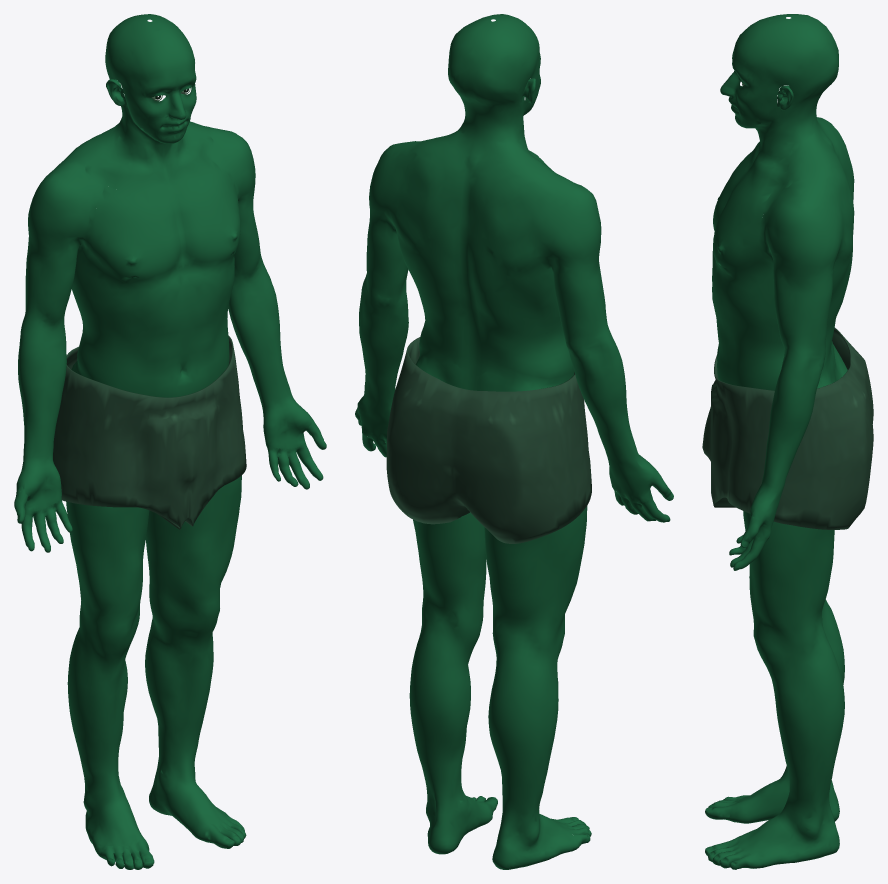
The picture shows the model from 3 angles, left to right: view 1: azimuth 30°, elevation 25°; view 2: azimuth 150°, elevation 25°; view 3: azimuth 270°, elevation 25°; orthographic projection.
Visible parts, largest first — view 1: base; view 2: base; view 3: base.
Part boxes in pixels (x1,y1,x2,y2): base: [14, 14, 326, 869]; base: [355, 14, 673, 869]; base: [702, 14, 873, 869].
Bounding box in the file's own units: 0.7955 × 2 × 0.3778.
